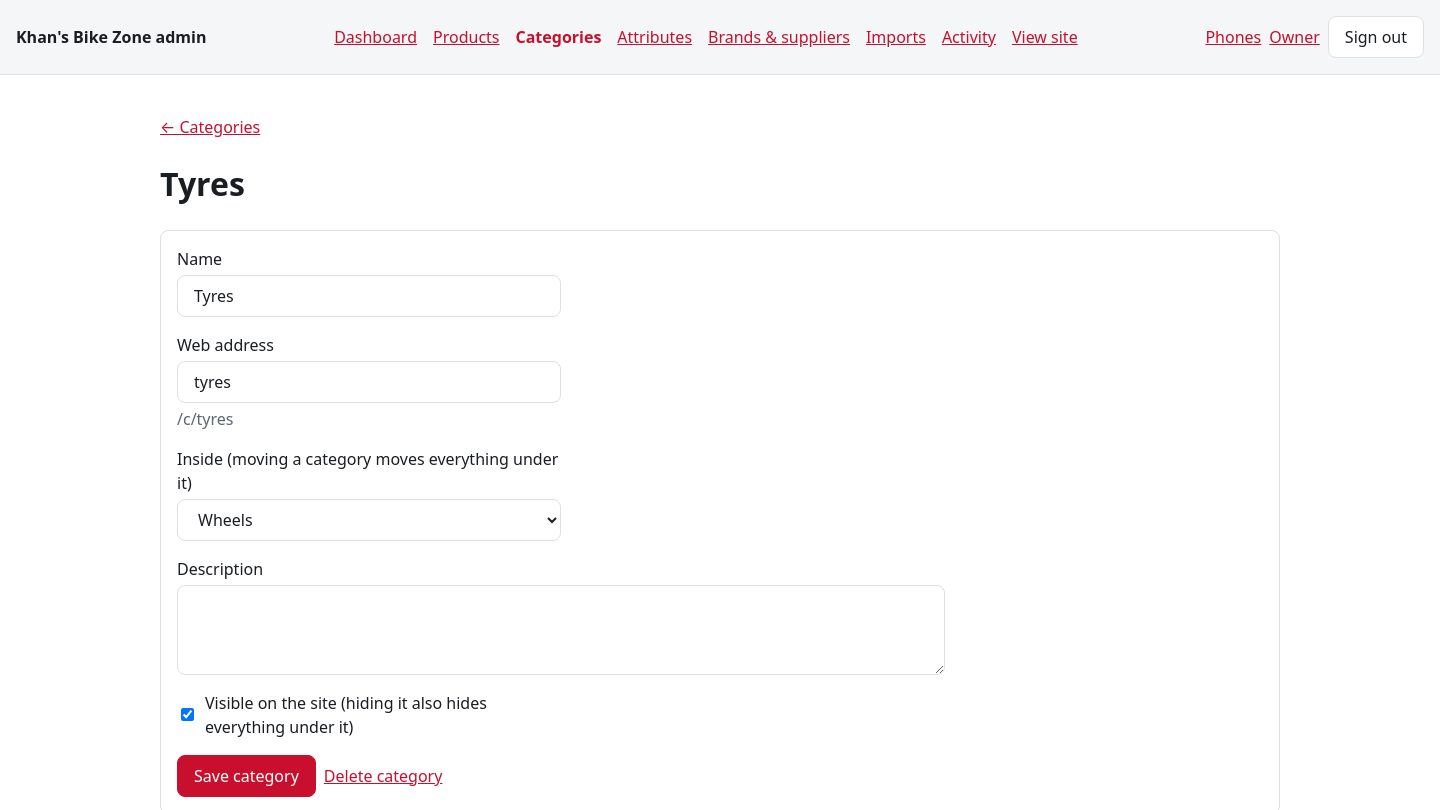
Scenario: categories › moves a category, offering only parents outside its own subtree
Step 1. Select "Grips" in the dropdown labelled "Inside (moving a category moves everything under it)" → (369, 520), box [177,499,561,541]
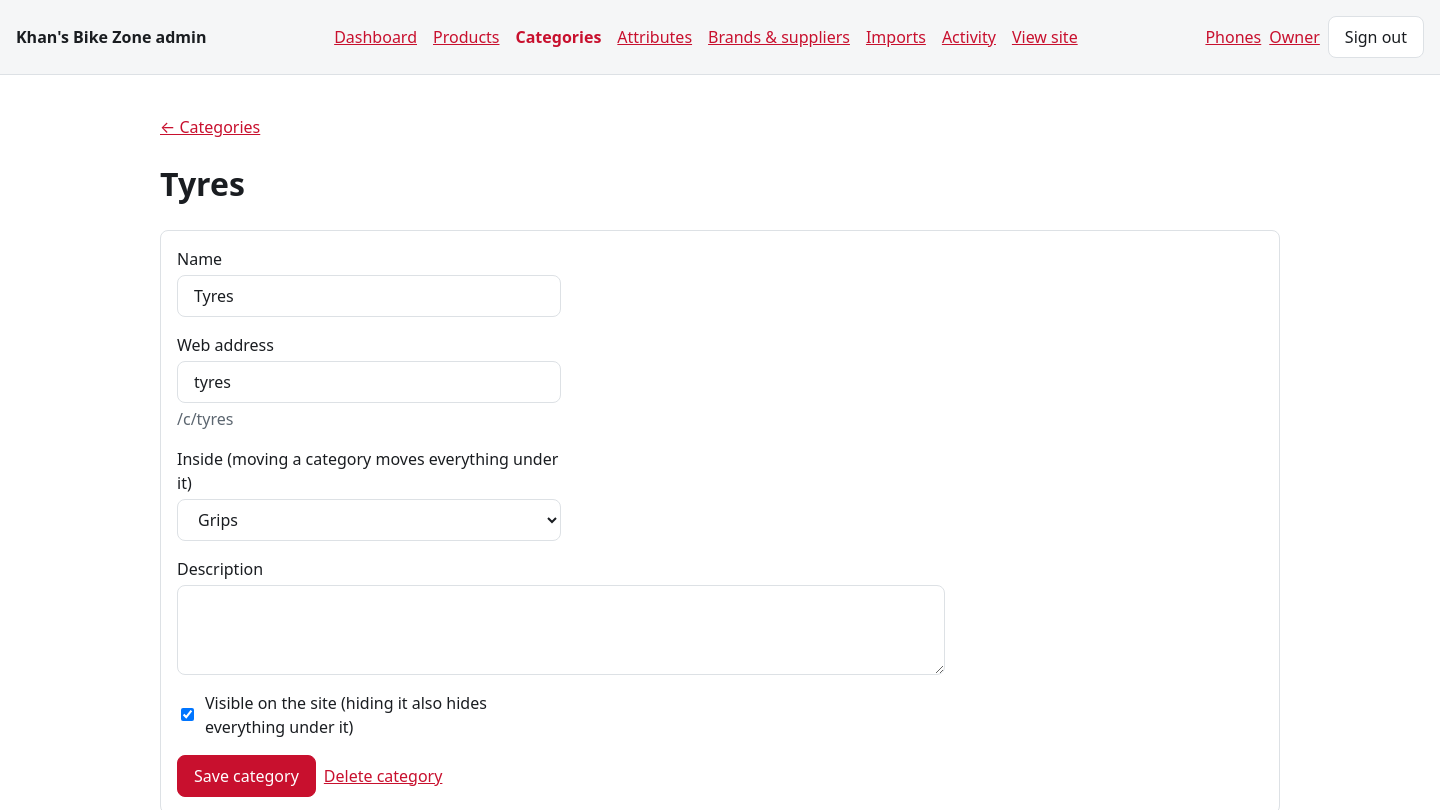
Step 2. Click the button "Save category" → (246, 776), box [177,755,316,797]
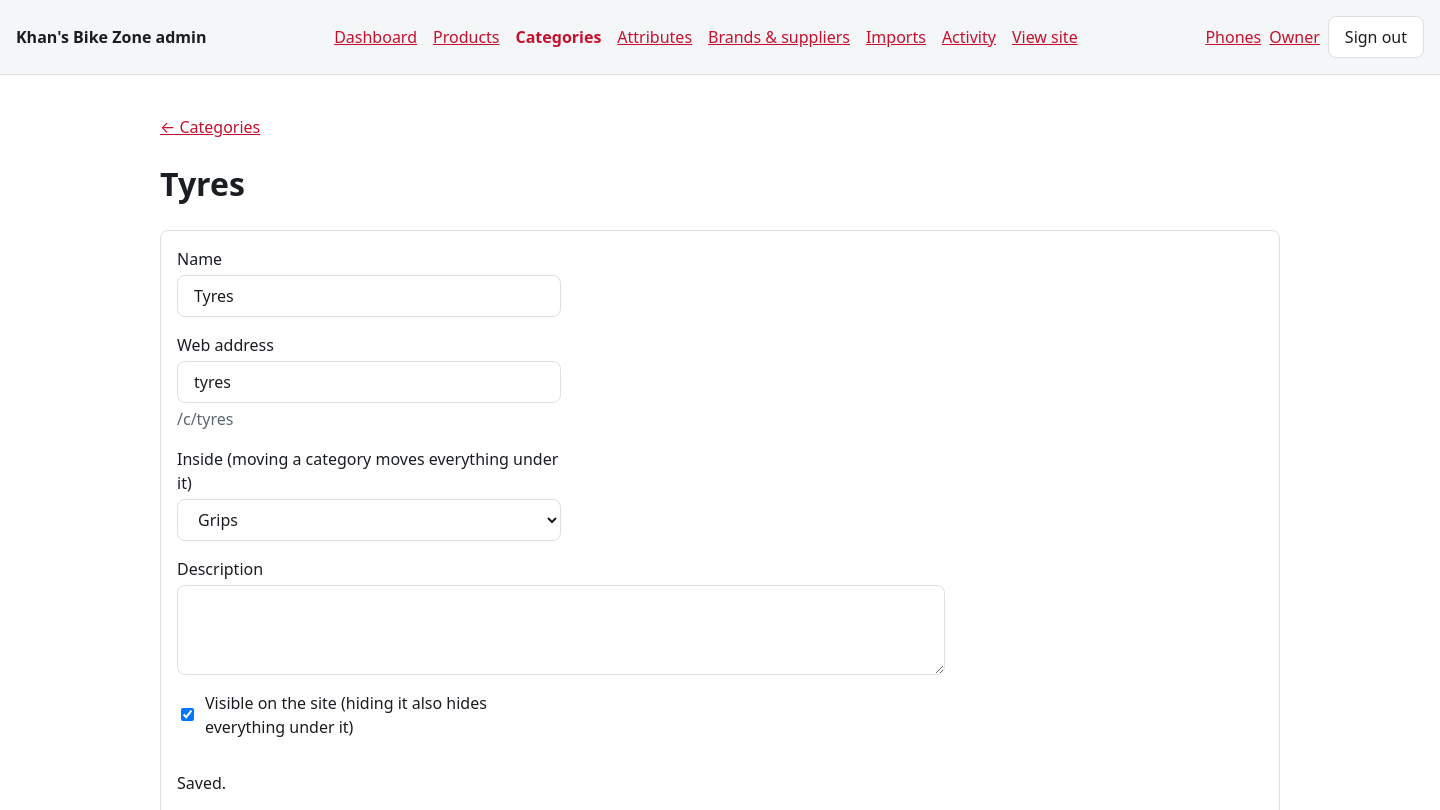
Expected: the text "Saved." is shown, [177,771,226,795]
